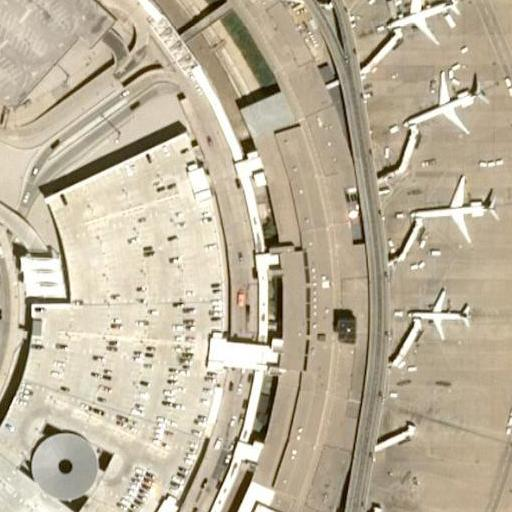Aircraft: (411, 170, 494, 243), (402, 72, 478, 136), (404, 284, 470, 341), (382, 0, 458, 40)
